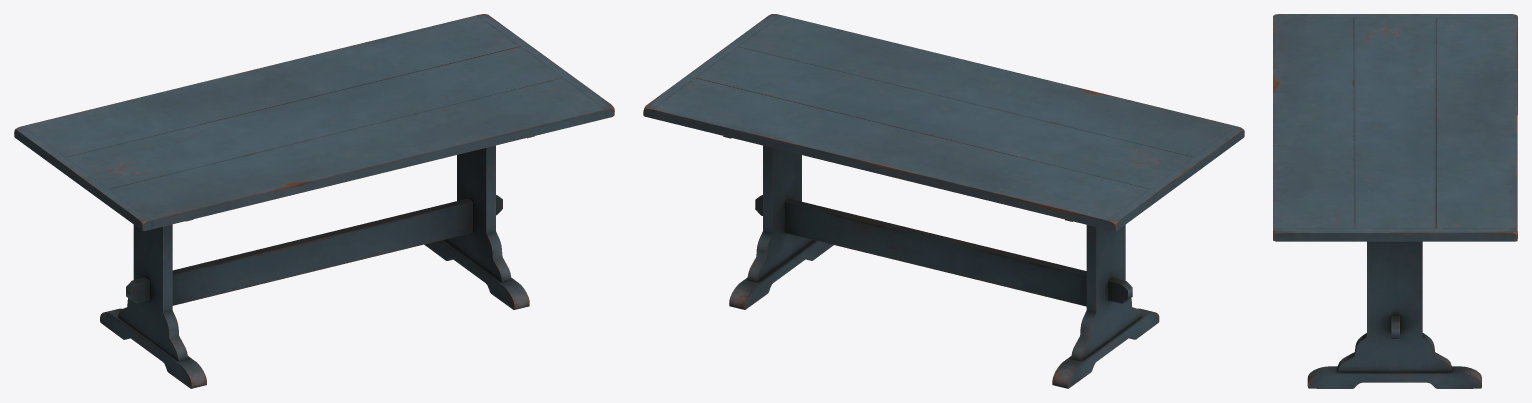
File: painted_wooden_table.glb
The picture shows the model from 3 angles, left to right: view 1: azimuth 30°, elevation 25°; view 2: azimuth 150°, elevation 25°; view 3: azimuth 270°, elevation 25°; orthographic projection. The views are drawn at different scales.
Parts seen in each view (by area): view 1: painted_wooden_table; view 2: painted_wooden_table; view 3: painted_wooden_table.
Boxes of the visible parts, bbox=[...] form: painted_wooden_table: bbox=[14, 14, 614, 388]; painted_wooden_table: bbox=[643, 14, 1244, 388]; painted_wooden_table: bbox=[1273, 14, 1517, 388].
Size of the model in its own units: 2.41 by 0.9588 by 1.14.
1 material, 1 textured.
